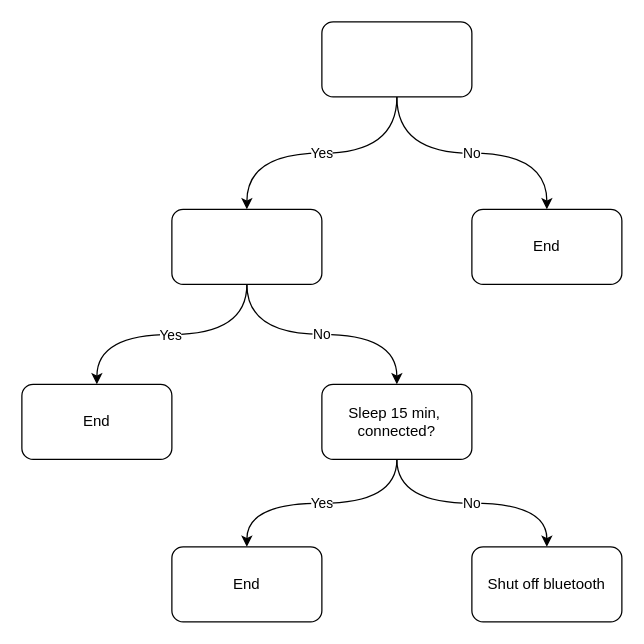
This 644x644 diagram has some shape labels left out. The shapes that lost their labels are listed below. From the top down, each one's centre as x and y in pixels, then its label:
(396,59): Bluetooth On?
(246,246): Connected?
